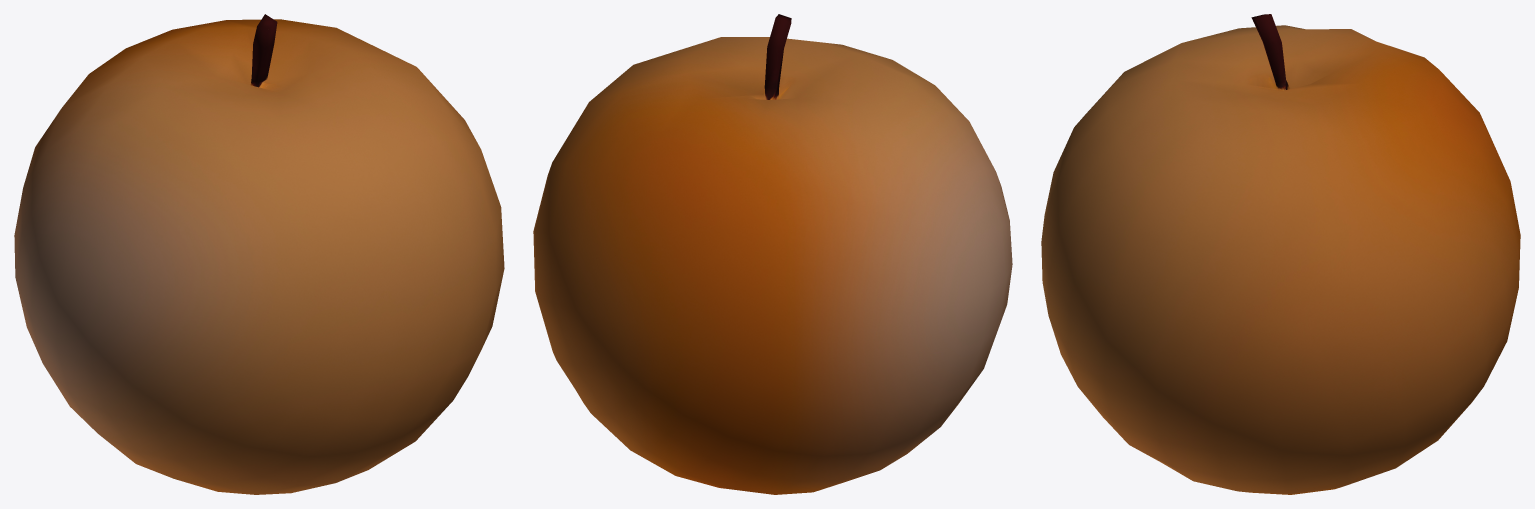
The model's file is chikku-300T.fbx.
3 renders of one model, left to right at view 1: azimuth 30°, elevation 25°; view 2: azimuth 150°, elevation 25°; view 3: azimuth 270°, elevation 25°, orthographic. The views are drawn at different scales.
Parts seen in each view (by area): view 1: tripo_node_fb1de808; view 2: tripo_node_fb1de808; view 3: tripo_node_fb1de808.
Part boxes in pixels (box(x1,y1,x2,y2)): tripo_node_fb1de808: box(14, 14, 504, 494); tripo_node_fb1de808: box(533, 14, 1012, 494); tripo_node_fb1de808: box(1041, 14, 1520, 494).
Bounding box in the file's own units: 0.9825 × 0.9979 × 0.9645.
Materials: 1 (1 with a texture image).
